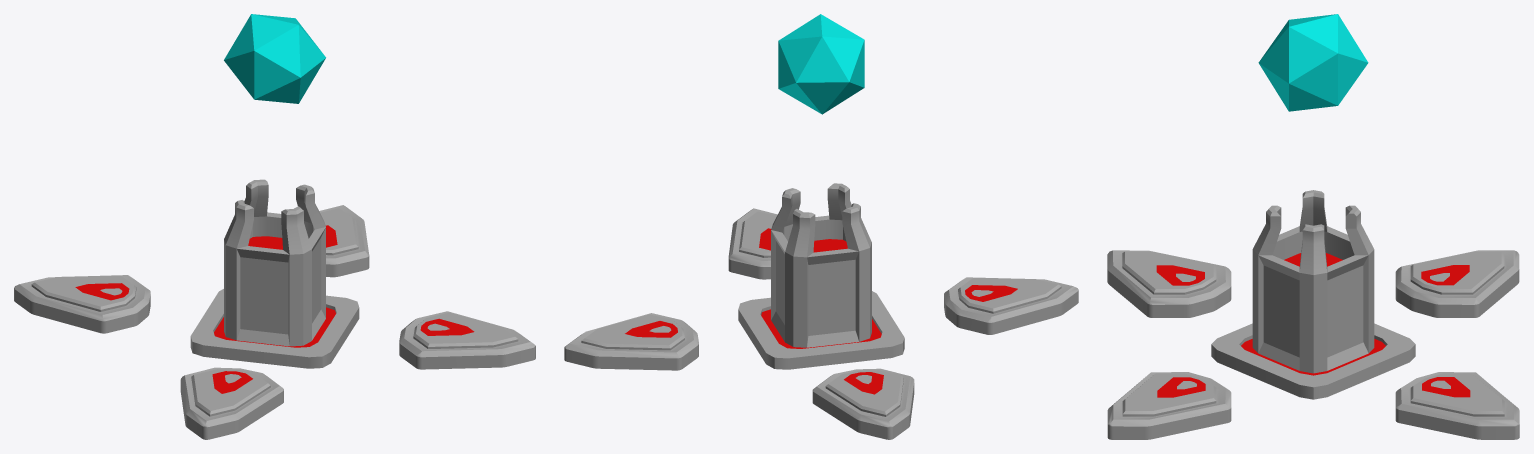
Rendered from Teleporter.fbx.
3 views of the same model, side by side, from view 1: azimuth 30°, elevation 25°; view 2: azimuth 150°, elevation 25°; view 3: azimuth 270°, elevation 25° (orthographic). The views are drawn at different scales.
Visible parts, largest first — view 1: polySurface34, polySurface33, polySurface37, polySurface35, polySurface38, polySurface36; view 2: polySurface34, polySurface33, polySurface38, polySurface36, polySurface37, polySurface35; view 3: polySurface34, polySurface33, polySurface37, polySurface38, polySurface35, polySurface36.
Part boxes in pixels (x1,y1,x2,y2): polySurface34: (190, 179, 359, 368); polySurface33: (224, 14, 325, 103); polySurface37: (14, 275, 150, 333); polySurface35: (399, 311, 535, 369); polySurface38: (180, 367, 283, 439); polySurface36: (319, 205, 369, 277); polySurface34: (738, 183, 904, 369); polySurface33: (778, 14, 864, 114); polySurface38: (944, 277, 1078, 334); polySurface36: (564, 313, 698, 370); polySurface37: (812, 368, 914, 439); polySurface35: (728, 208, 777, 279); polySurface34: (1211, 190, 1415, 399); polySurface33: (1258, 14, 1368, 111); polySurface37: (1395, 250, 1519, 317); polySurface38: (1107, 250, 1231, 317); polySurface35: (1107, 372, 1231, 439); polySurface36: (1395, 372, 1519, 439).
Bounding box in the file's own units: 3.74 × 3.37 × 3.74.
